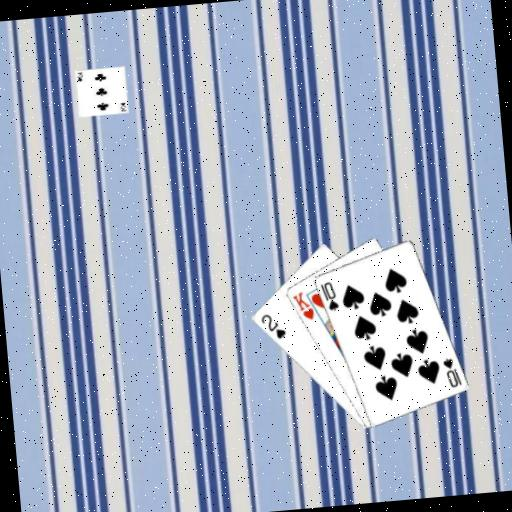10S: (439, 354, 463, 390), (317, 278, 340, 314)
2S: (258, 310, 288, 343)
KH: (289, 288, 316, 323)
